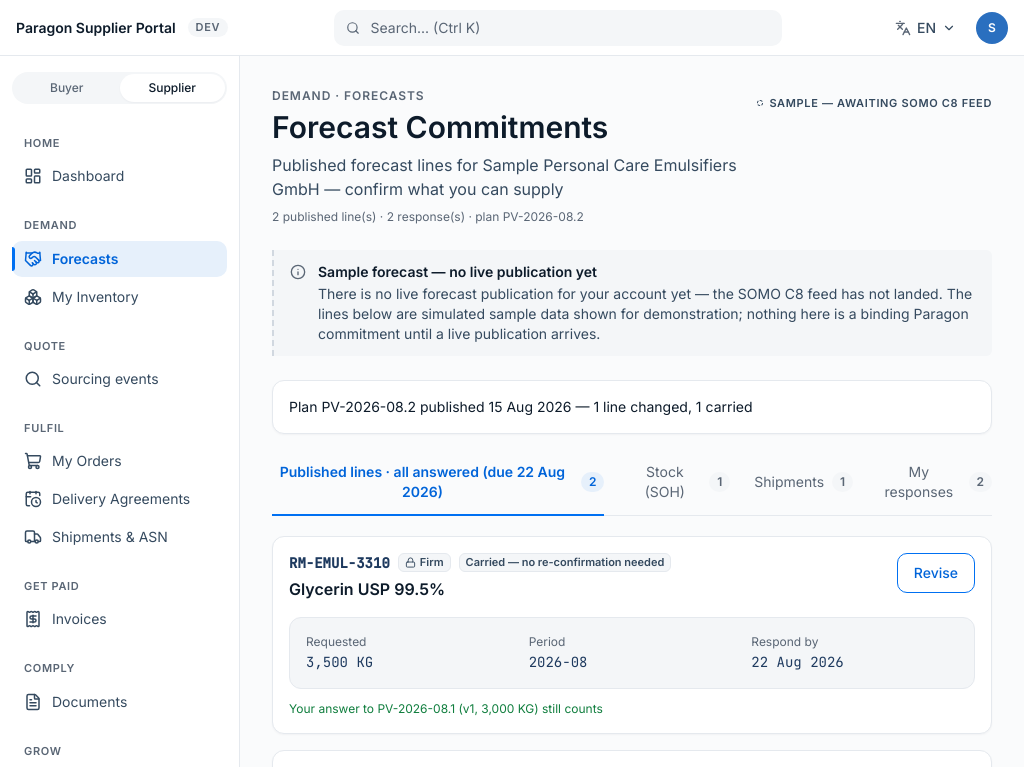
Test: the narrowed seat — each verb renders its OWN pending-with-an-owner notice › THE KNOWN-GOOD CONTROL — the same leg under the HELD seat renders buttons, not notices
Click the tab "Shipments 1": coordinates (804, 483) [754, 460, 853, 506]
(page scrolled)
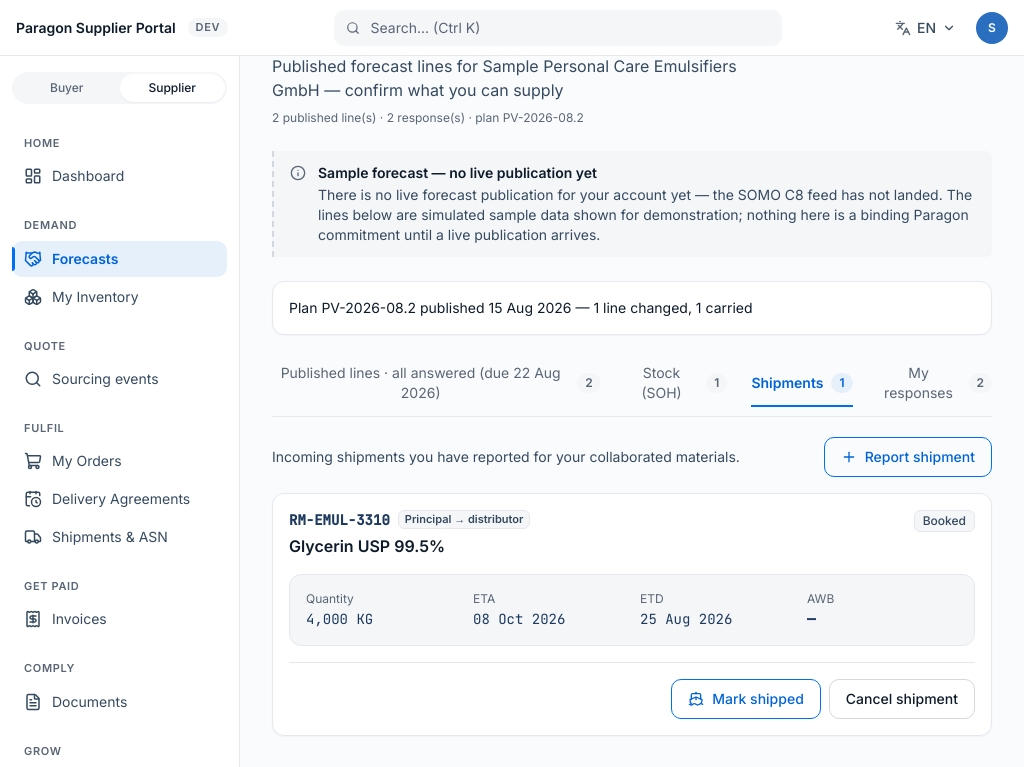
Result: the button "Mark shipped" is shown at [671, 679, 821, 719]
